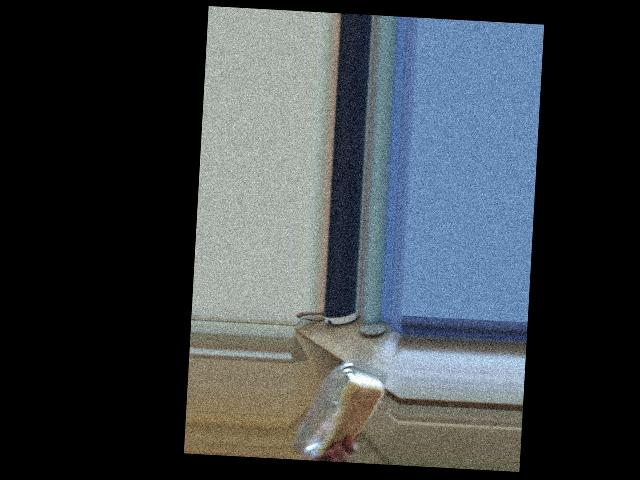cheese: (309, 368, 375, 426)
